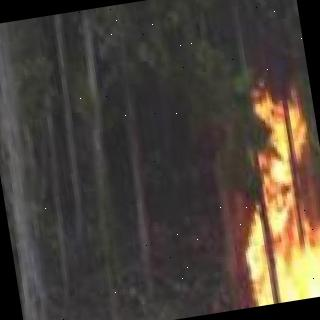fire: (160, 82, 320, 316)
